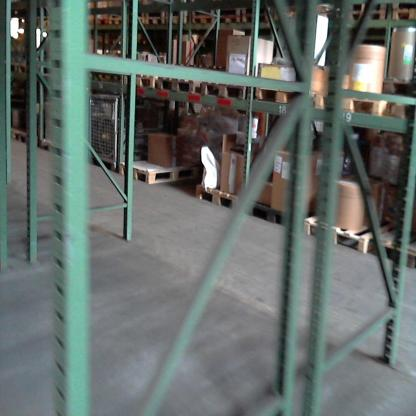pallet: (302, 199, 397, 260), (119, 145, 216, 192), (244, 182, 326, 234), (246, 64, 325, 117), (193, 165, 254, 213), (327, 84, 387, 117), (373, 225, 414, 271), (200, 69, 249, 104), (156, 71, 210, 102), (332, 6, 385, 29), (122, 67, 158, 98), (183, 6, 214, 27), (6, 124, 35, 146), (163, 13, 189, 31), (14, 59, 42, 75), (212, 15, 241, 29), (392, 7, 415, 24), (86, 15, 108, 32), (142, 13, 163, 27), (108, 16, 128, 29)
stillage: (84, 87, 170, 178)
